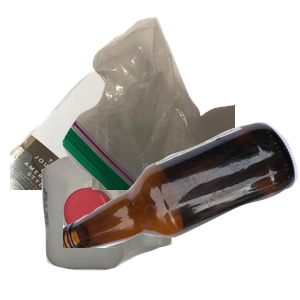glass: (63, 120, 300, 300)
paper: (10, 46, 250, 226)
plastic: (39, 149, 203, 300)
trash: (60, 14, 300, 194)
